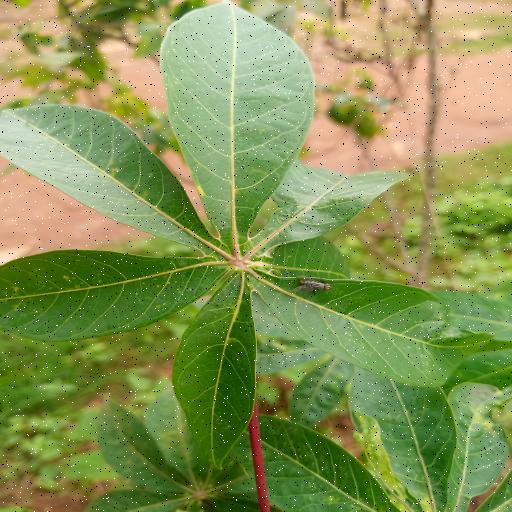Cassava_Mosaic: (0, 2, 502, 476)
